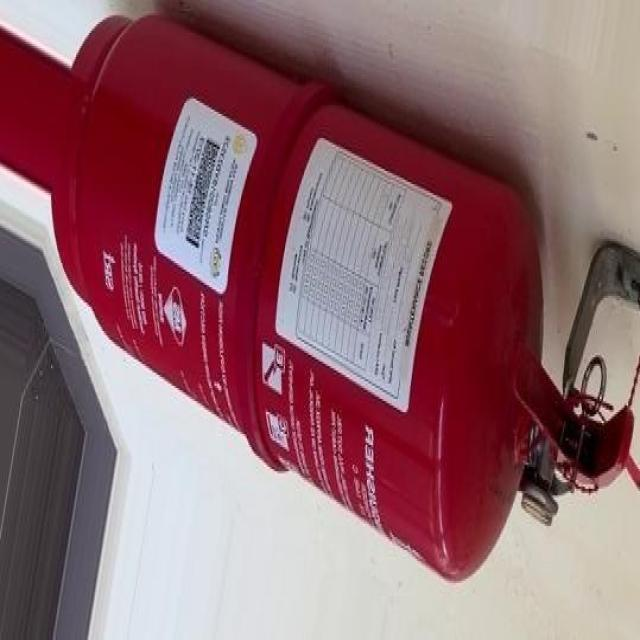fire_extinguisher: (41, 4, 639, 590)
